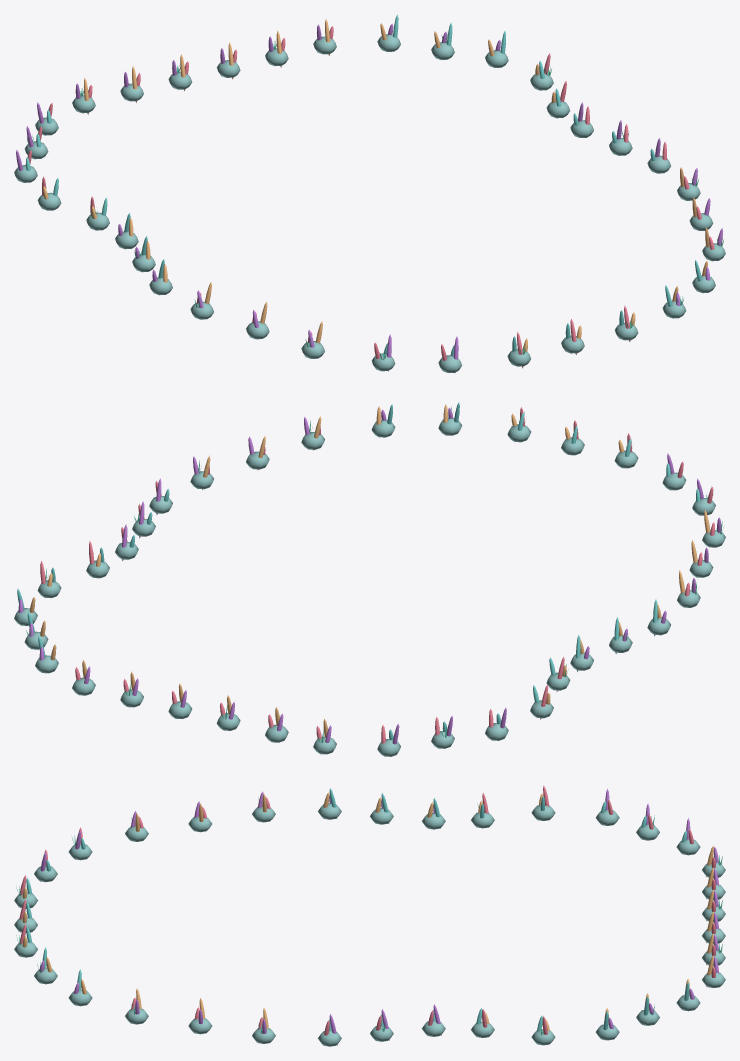
Rendered from reef-23-BSp5_kFn.glb.
3 renders of one model, top to bottom at view 1: azimuth 30°, elevation 25°; view 2: azimuth 150°, elevation 25°; view 3: azimuth 270°, elevation 25°, orthographic. The views are drawn at different scales.
Parts seen in each view (by area): view 1: ReefRock, Coral2, Coral1, Coral3, Coral0; view 2: ReefRock, Coral1, Coral2, Coral0, Coral3; view 3: ReefRock, Coral1, Coral2, Coral0, Coral3.
Part boxes in pixels (x1,y1,x2,y2): ReefRock: [14, 34, 725, 372]; Coral2: [43, 19, 709, 351]; Coral1: [16, 23, 722, 371]; Coral3: [25, 14, 703, 356]; Coral0: [27, 26, 714, 368]; ReefRock: [14, 418, 725, 756]; Coral1: [18, 407, 721, 744]; Coral2: [29, 404, 710, 737]; Coral0: [40, 407, 714, 743]; Coral3: [17, 402, 700, 740]; ReefRock: [14, 803, 725, 1046]; Coral1: [39, 789, 719, 1045]; Coral2: [22, 792, 713, 1030]; Coral0: [18, 785, 715, 1037]; Coral3: [26, 788, 689, 1040].
Bounding box in the file's own units: 32.29 × 2.06 × 41.1.
